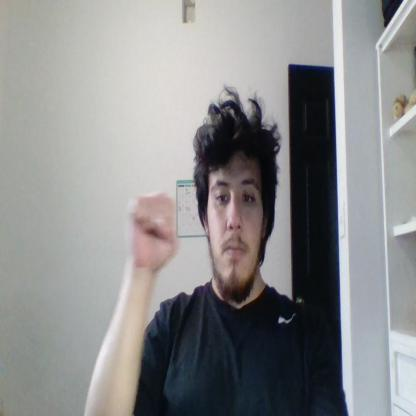S: (128, 192, 180, 270)
